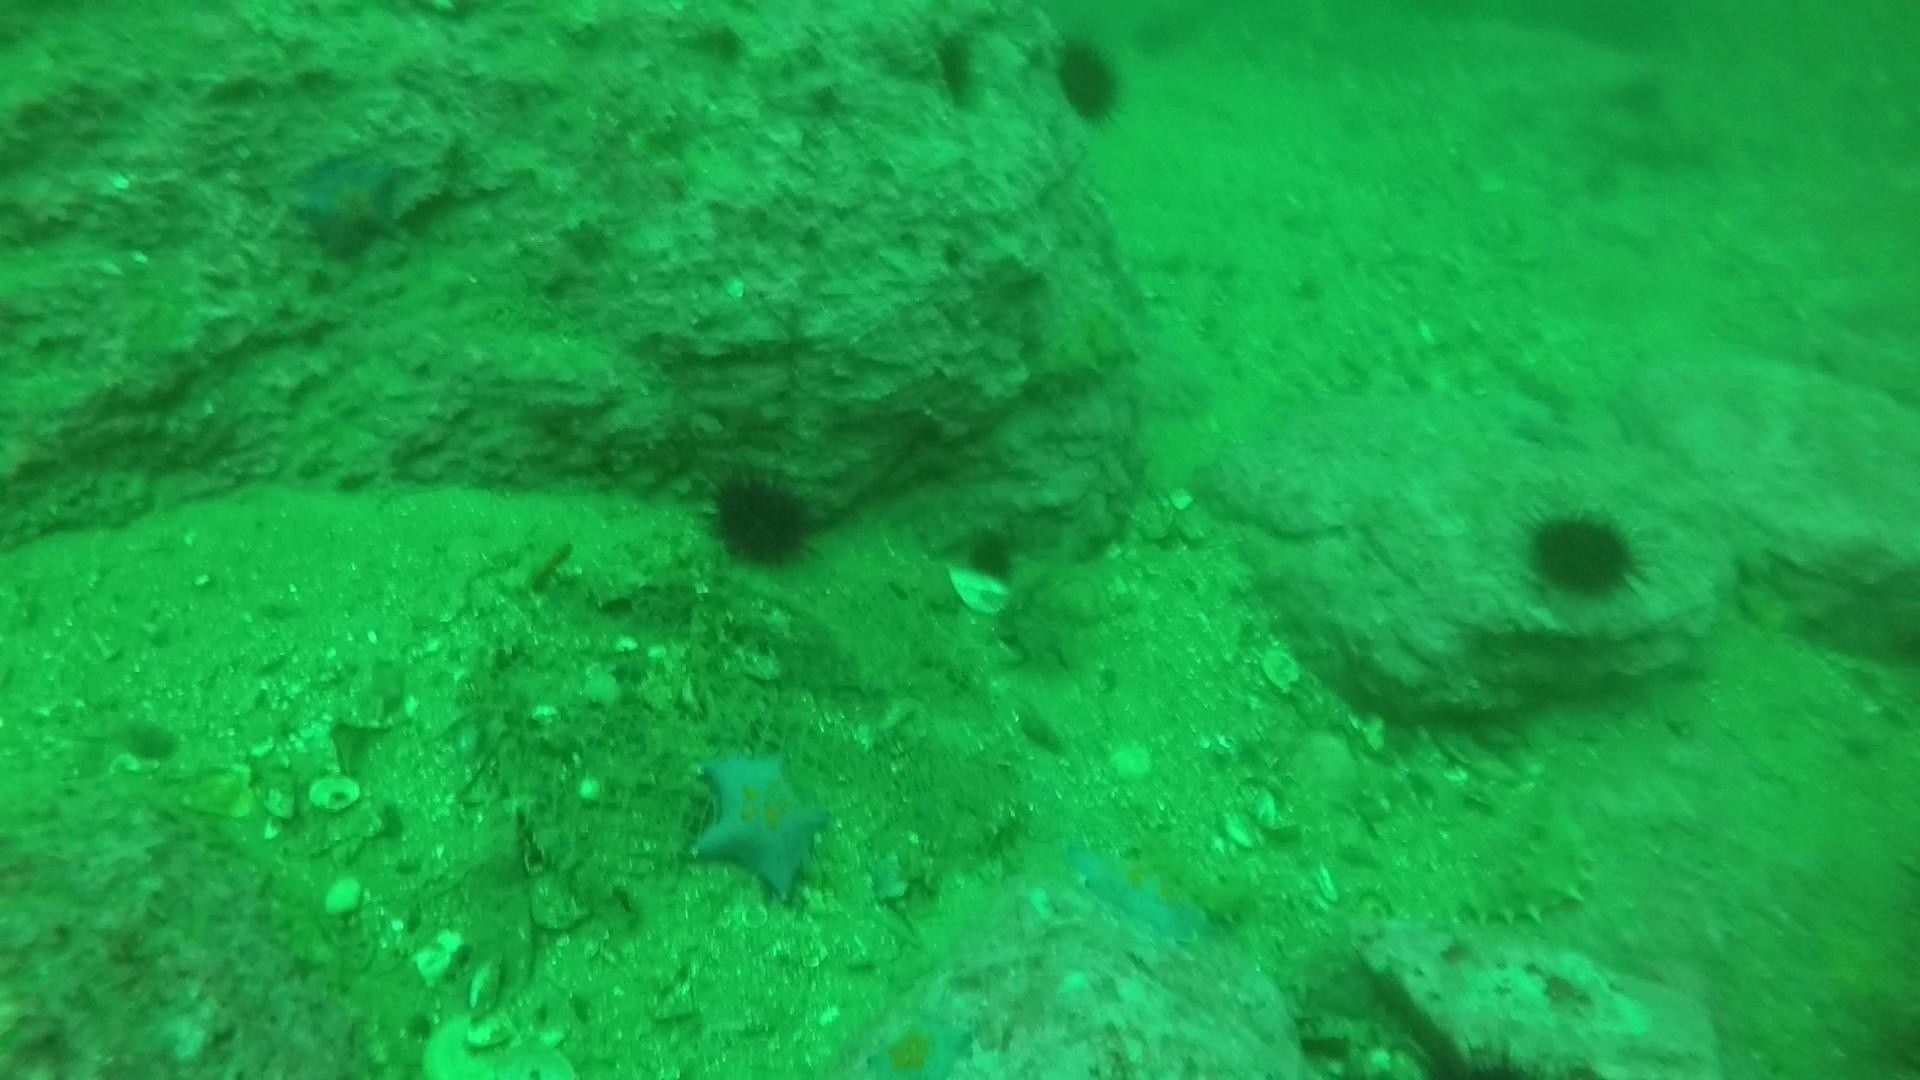echinus: (699, 462, 824, 574), (1518, 502, 1648, 607), (1044, 33, 1131, 129), (959, 522, 1029, 593)
holothurian: (1452, 791, 1606, 936), (1129, 815, 1280, 911), (1269, 894, 1398, 996)
starfish: (684, 740, 837, 905), (1040, 833, 1230, 955), (285, 142, 417, 265), (852, 1001, 982, 1075)
